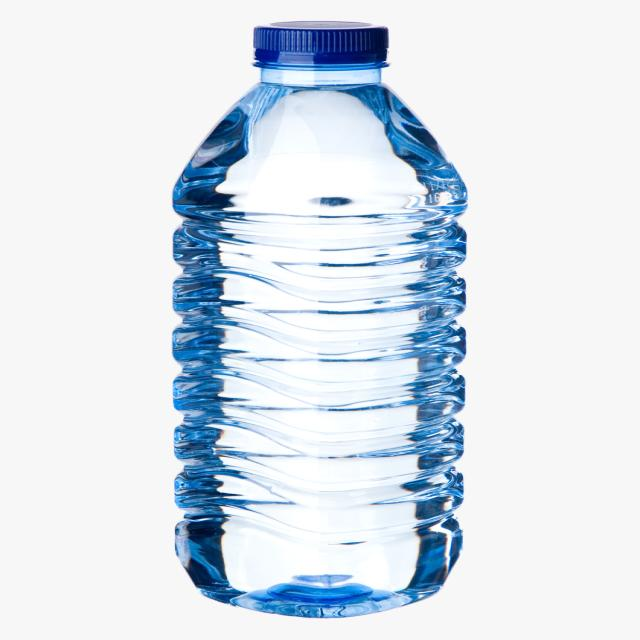bottle: (162, 24, 480, 620)
